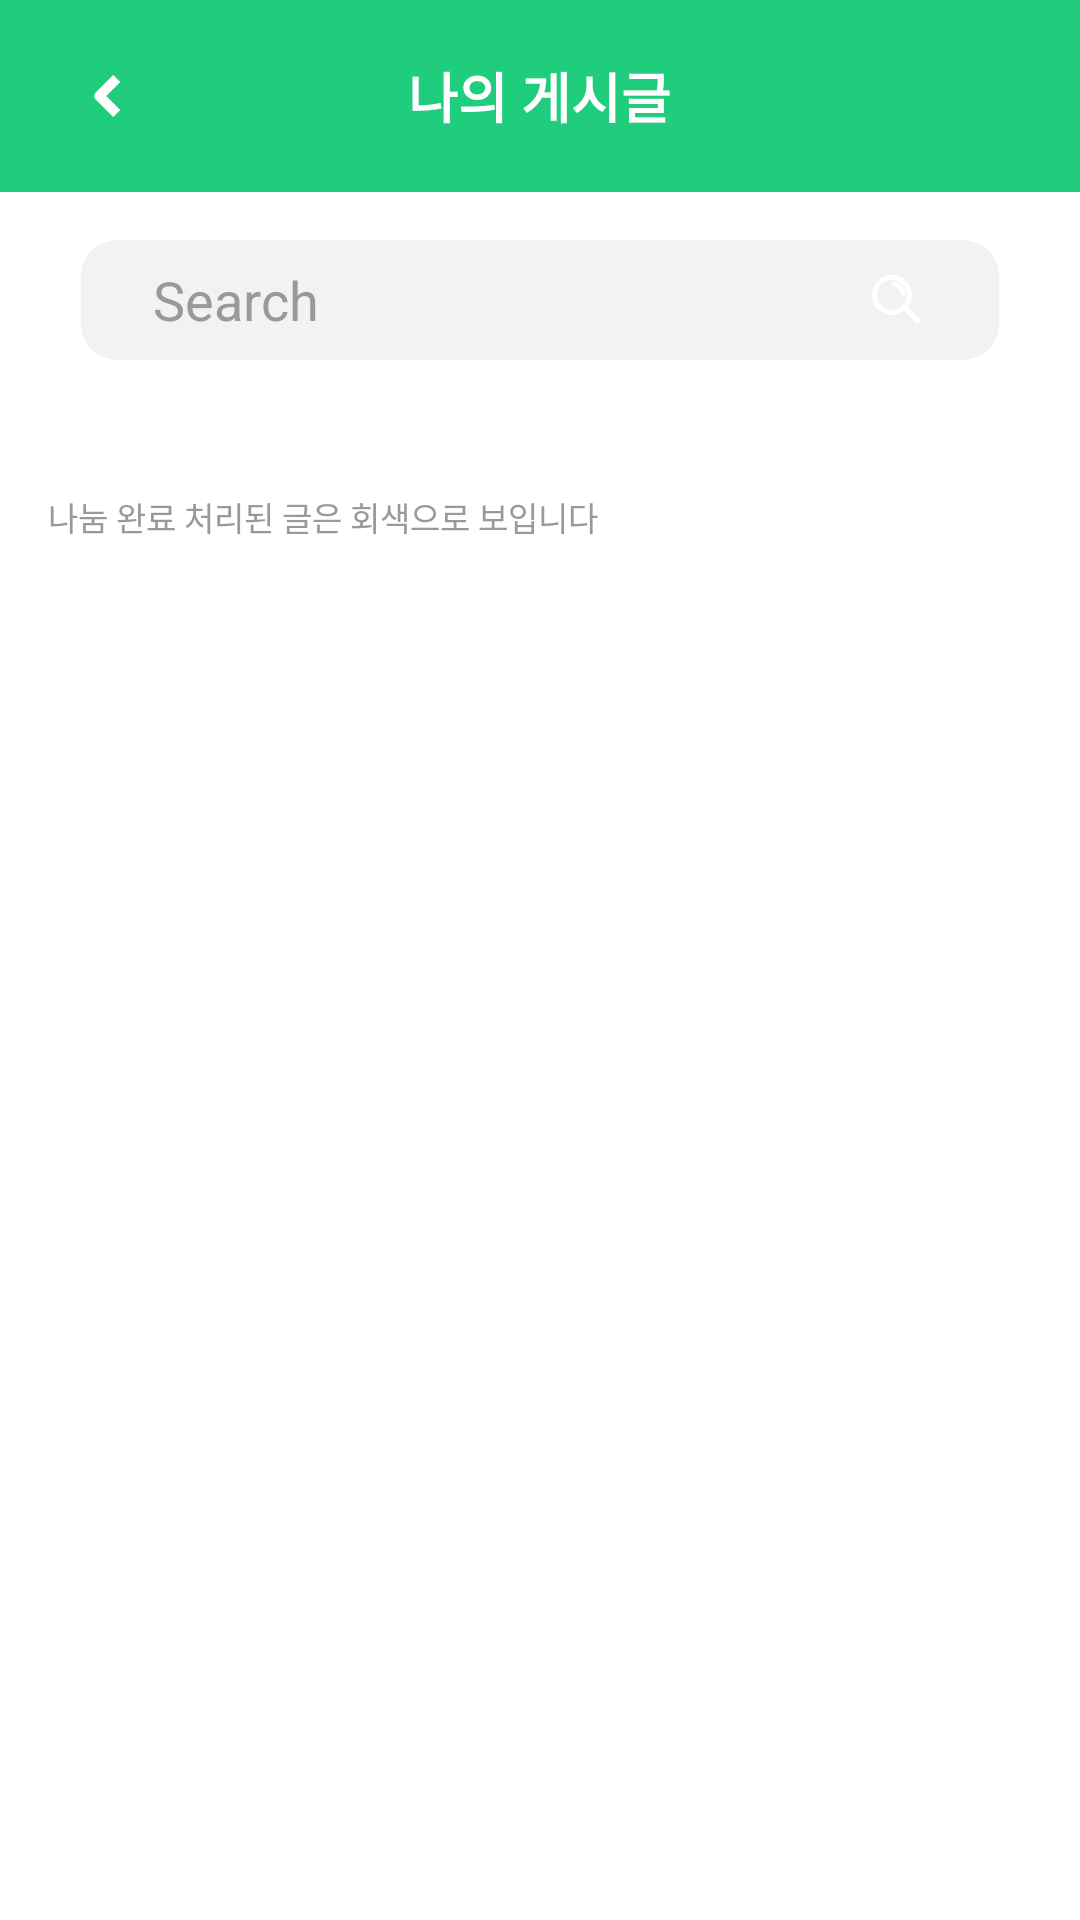

Icons on this 1080px×1920px Android screen, each with its box as region(x1, y1, x2, y2):
arrow back: region(94, 75, 120, 117)
